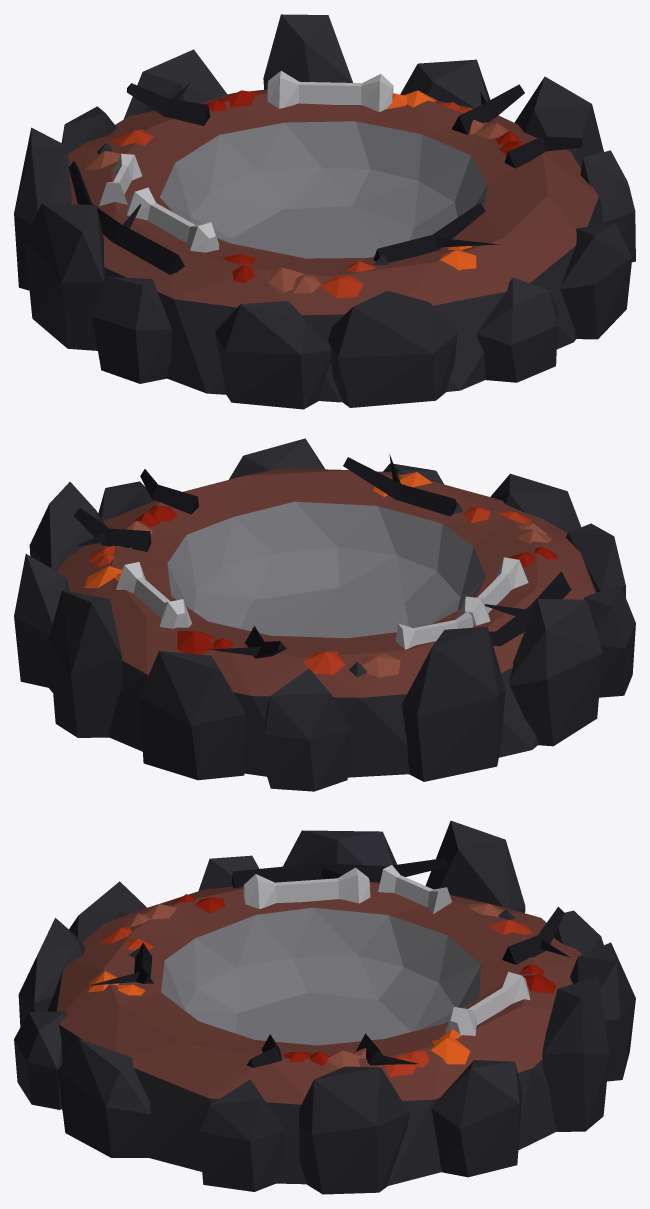
The model's file is brood-nest-1d3e6b.glb.
3 views of the same model, one above another, from view 1: azimuth 30°, elevation 25°; view 2: azimuth 150°, elevation 25°; view 3: azimuth 270°, elevation 25° (orthographic).
Parts seen in each view (by area): view 1: nest; view 2: nest; view 3: nest.
Part boxes in pixels (x1,y1,x2,y2): nest: [14, 14, 635, 409]; nest: [14, 438, 635, 791]; nest: [14, 820, 635, 1194].
Size of the model in its own units: 2.49 by 0.5998 by 2.51.
